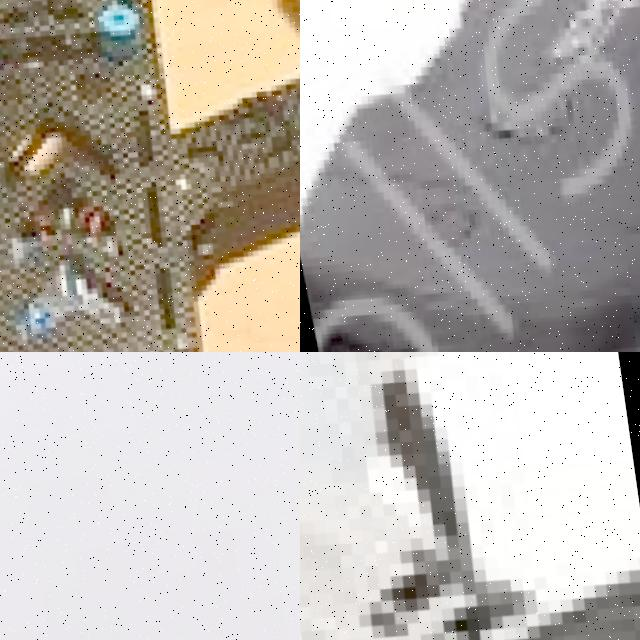drone: (300, 0, 640, 352), (0, 0, 300, 352), (300, 352, 640, 640)
